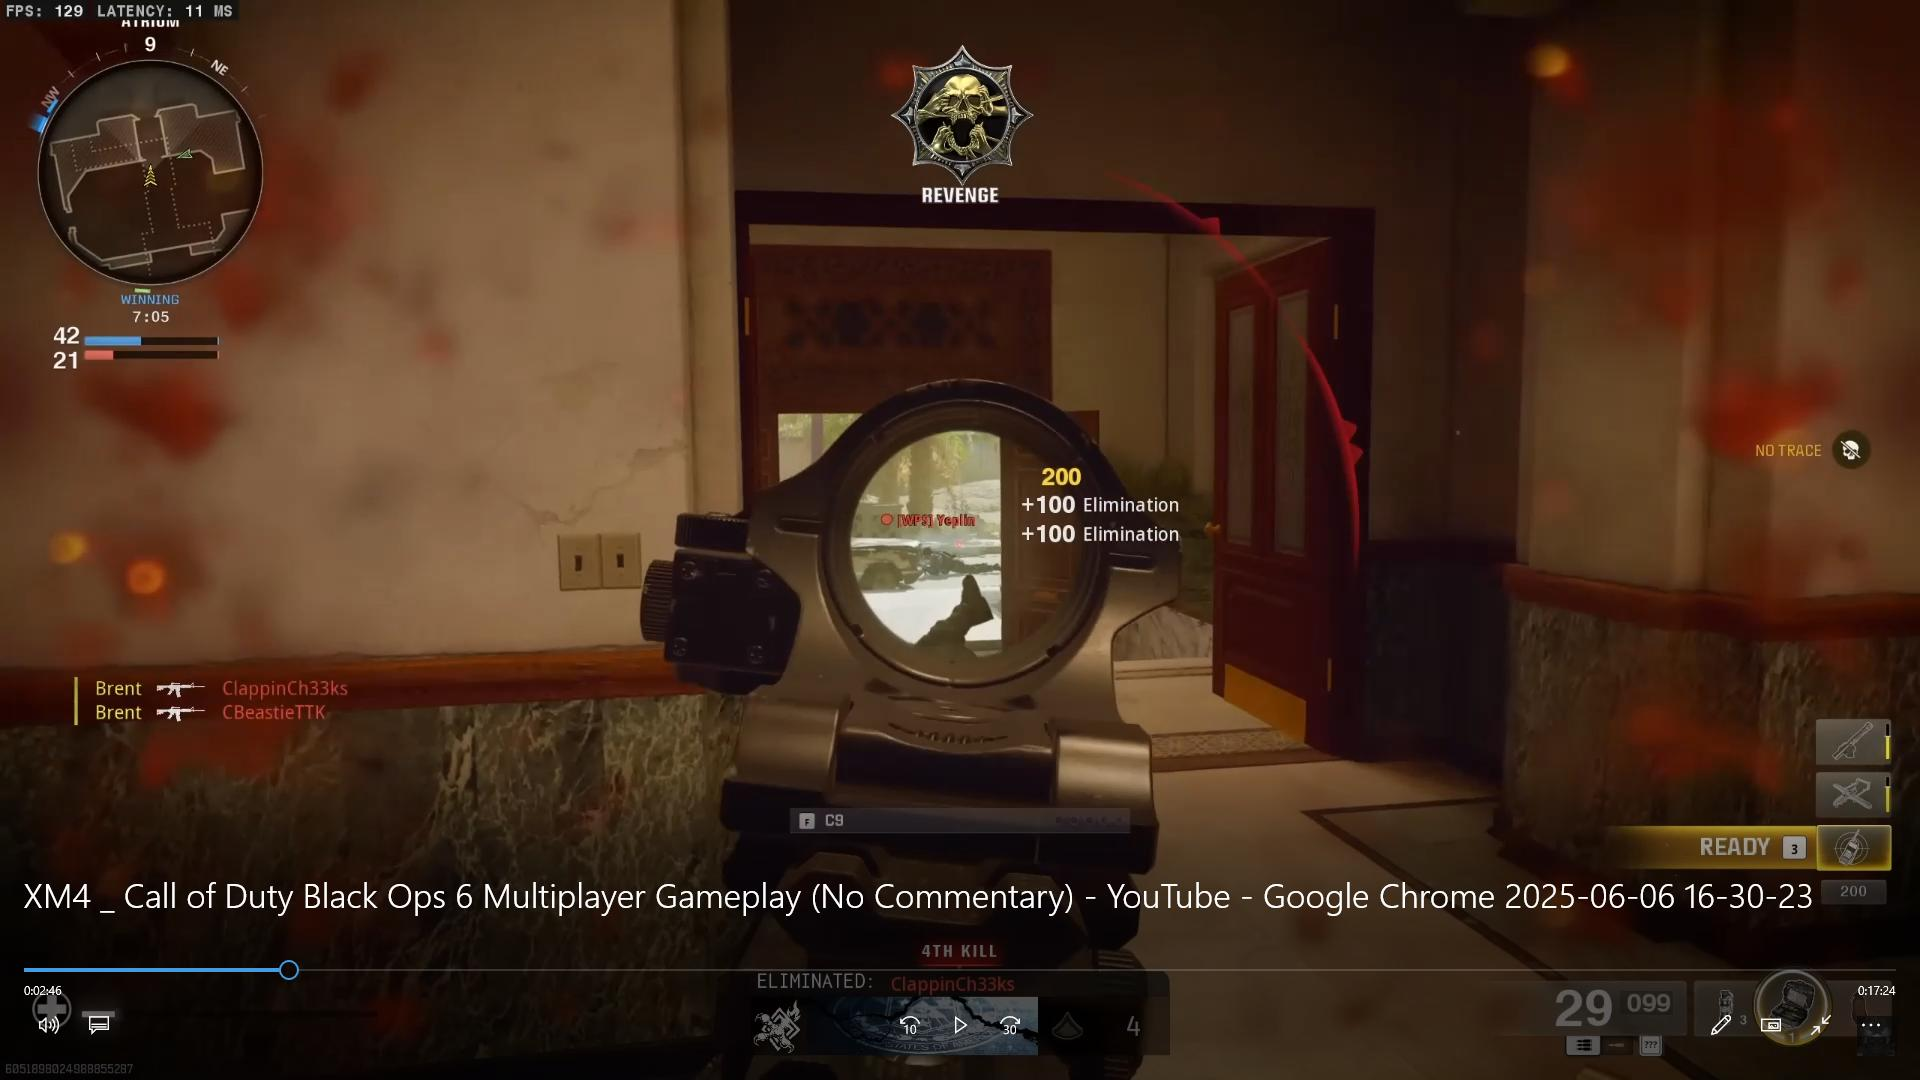Enemy: (893, 498, 1004, 583)
